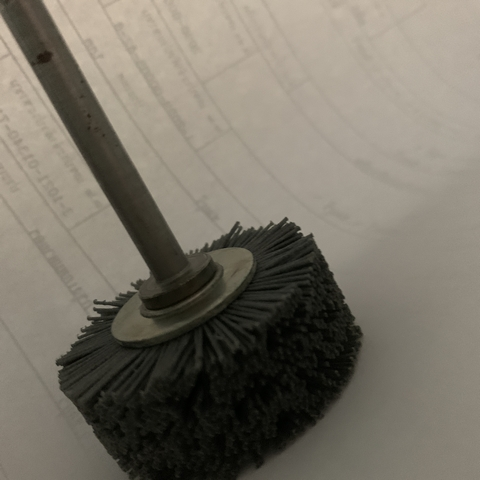Wheel Brush: (7, 1, 350, 477), (9, 21, 366, 476), (58, 11, 393, 467), (1, 200, 375, 464)
